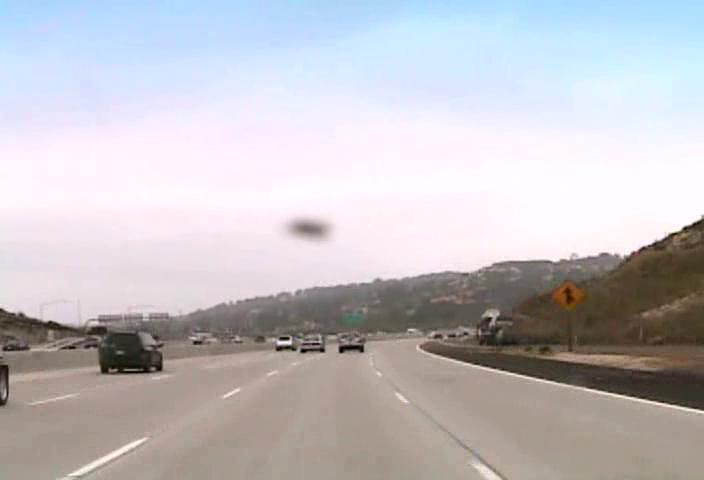merge: (549, 279, 585, 313)
